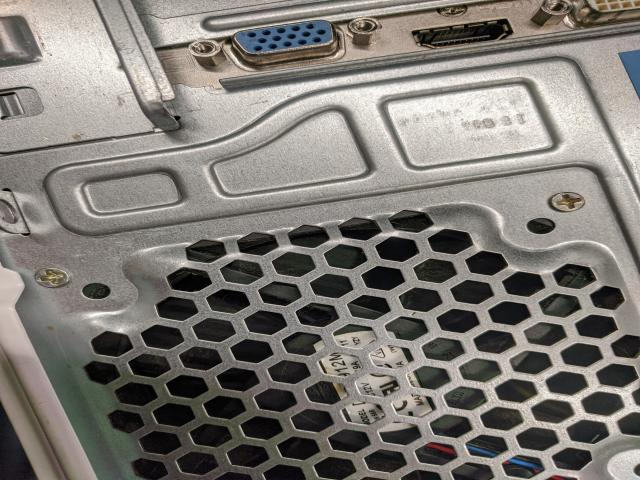CRS: (32, 268, 72, 290), (548, 191, 588, 213)
